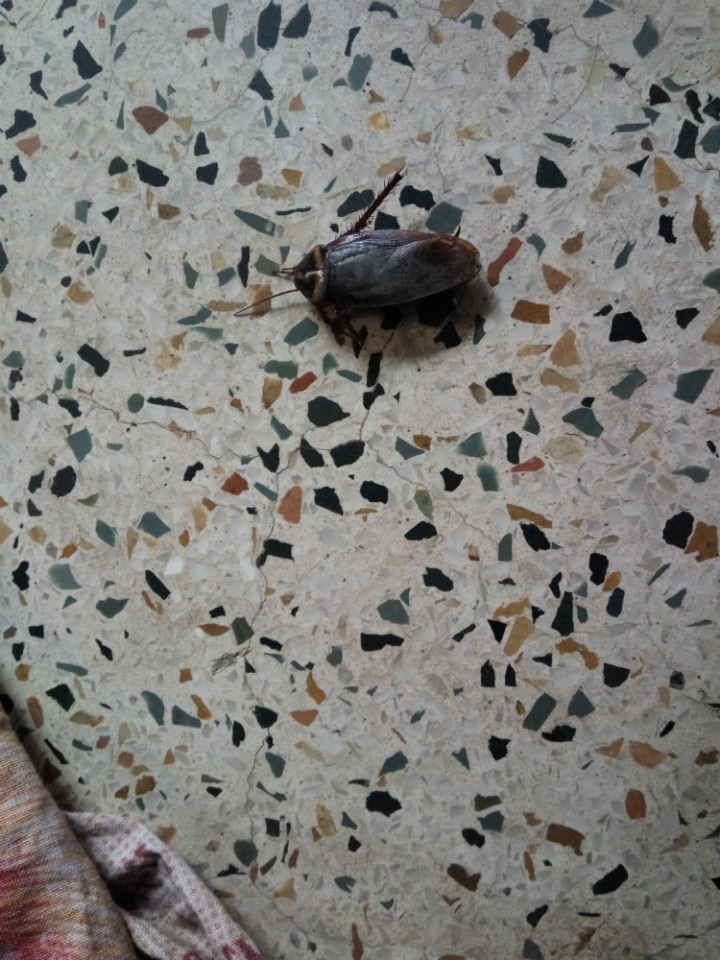cockroach: (185, 160, 585, 405)
